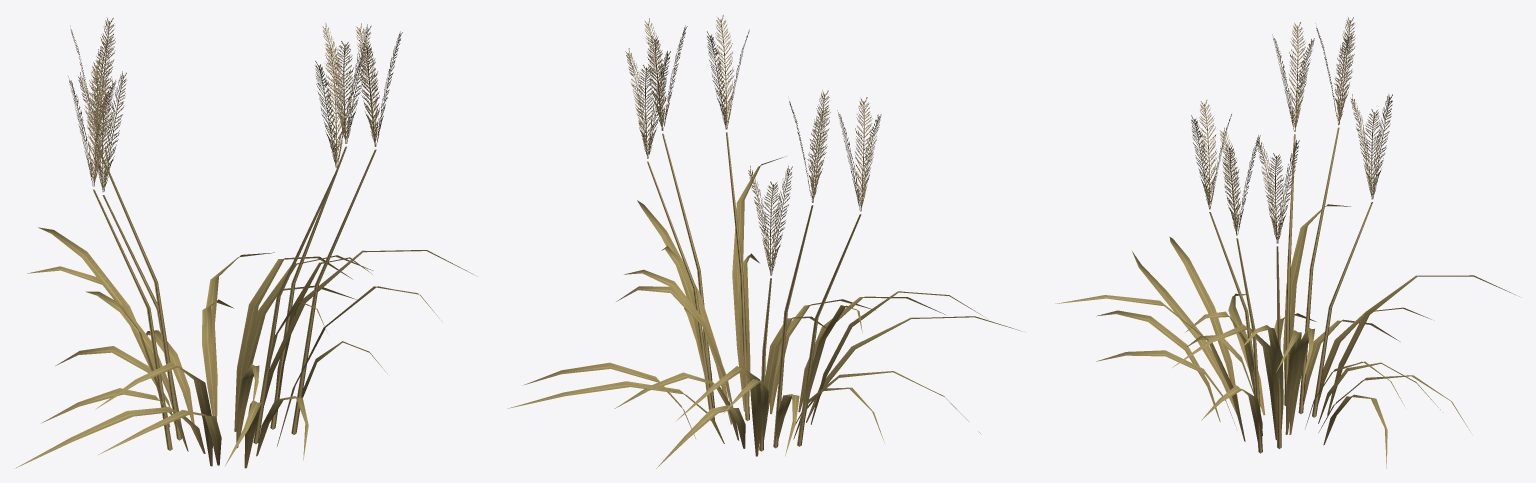
Rendered from alluvial-awn-grass.glb.
3 renders of one model, left to right at view 1: azimuth 30°, elevation 25°; view 2: azimuth 150°, elevation 25°; view 3: azimuth 270°, elevation 25°, orthographic. The views are drawn at different scales.
Visible parts, largest first — view 1: Dry bunchgrass with awned seed sprays; view 2: Dry bunchgrass with awned seed sprays; view 3: Dry bunchgrass with awned seed sprays.
Part boxes in pixels (left/top/right/bottom): Dry bunchgrass with awned seed sprays: left=15, top=17, right=473, bottom=468; Dry bunchgrass with awned seed sprays: left=507, top=15, right=1021, bottom=468; Dry bunchgrass with awned seed sprays: left=1055, top=17, right=1519, bottom=468.
Bounding box in the file's own units: 0.6447 × 0.6015 × 0.7016.
1 material, 1 textured.
